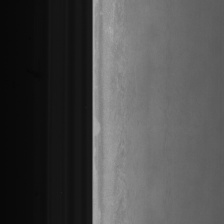silk_spot: (112, 28, 139, 224)
